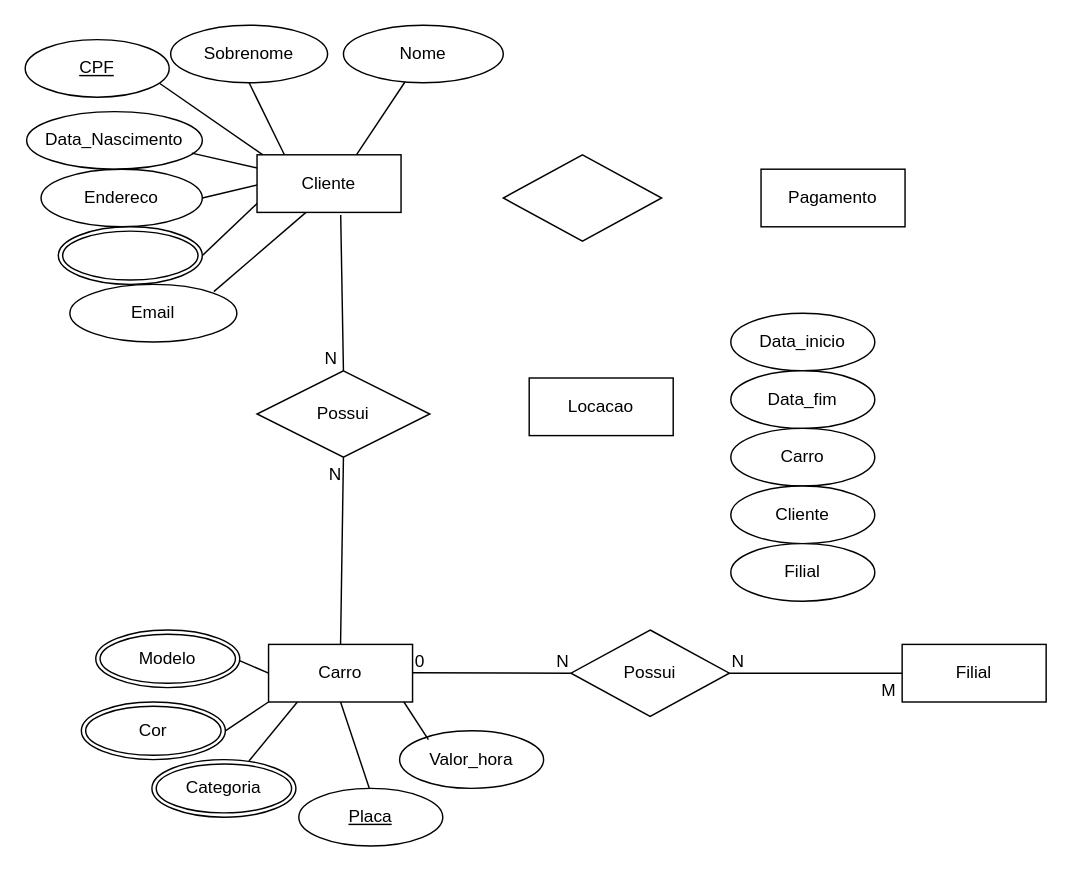
This 1071x871 diagram has some shape labels left out. The centre of each missing label's shape, as x and y in pixels:
"Efetua" goes at point (582, 197).
"Telefone" goes at point (129, 254).
